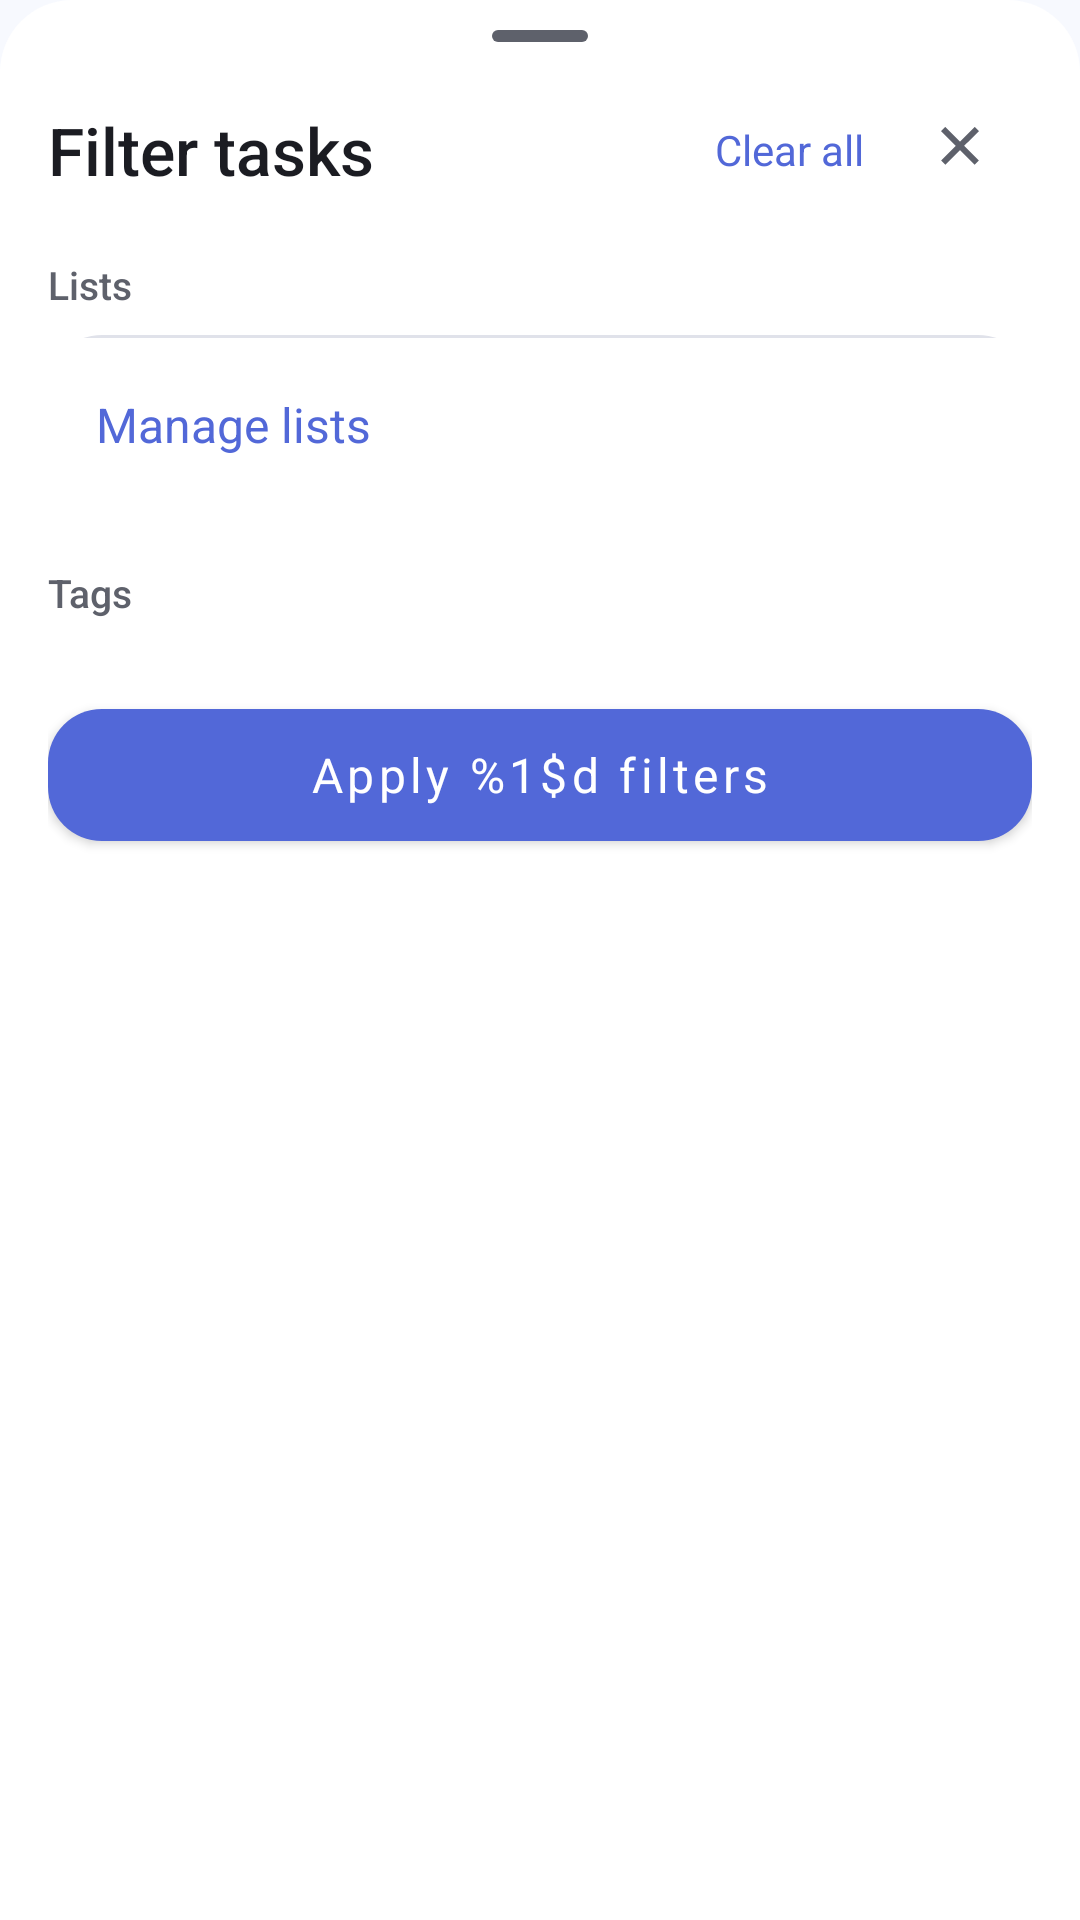

Screen size 1080×1920. Icon name, then its box in pixels as bbox=(x1, y1, x2, y2):
Close filter: bbox=(941, 127, 979, 165)
